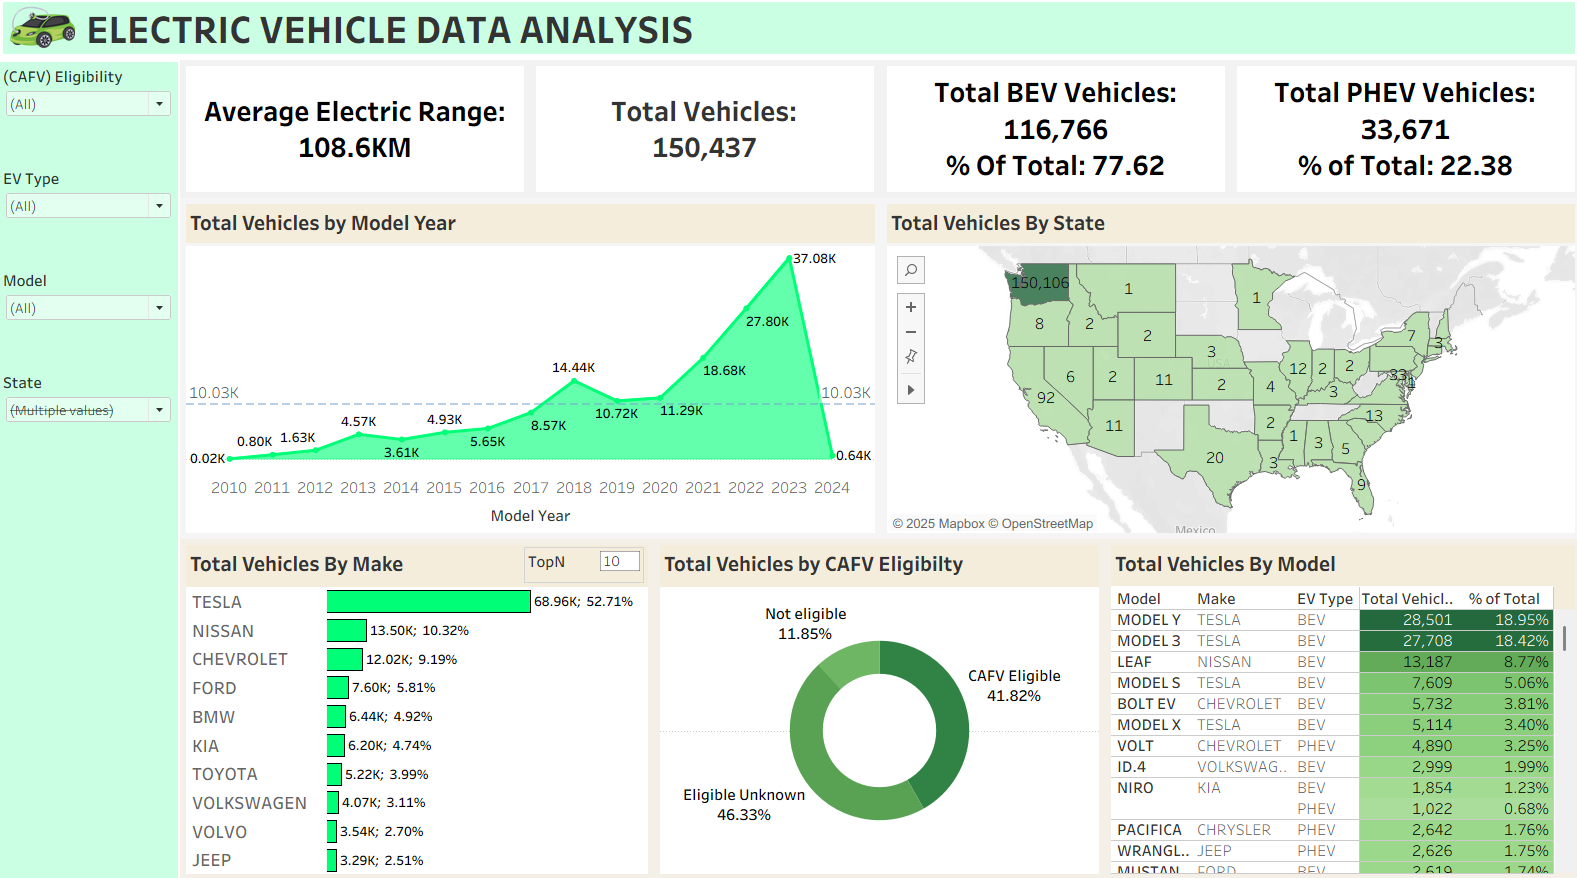

Layout of this report page (visuals, bound fields, positions):
{"tool":"tableau","page":{"name":"Dashboard 1","canvas":[1600,900],"ordinal":0},"visuals":[{"type":"title","box":[8,8,1584,64]},{"type":"image","param":"E:/Reading/Tableau/electric-car-vehicle-charging-plug-free-png.png","box":[16,15,76,48]},{"type":"worksheet","title":"Average Electric Range","mark":"Automatic","box":[191,72,350.3,137.6]},{"type":"worksheet","title":"Total Vehicles","mark":"Automatic","box":[541.3,72,350.2,137.6]},{"type":"worksheet","title":"Total BEV Vehicles","mark":"Automatic","box":[891.5,72,350.3,137.6]},{"type":"worksheet","title":"Total PHEV Vehicles","mark":"Automatic","box":[1241.8,72,350.2,137.6]},{"type":"filter","title":"Total Vehicles by Model Year","param":"[federated.189b9451bevg3716azfju1jef987].[none:Clean Alternative Fuel Vehicle (C","box":[10,74,179,102]},{"type":"filter","title":"Total Vehicles by Model Year","param":"[federated.189b9451bevg3716azfju1jef987].[none:Electric Vehicle Type:nk]","box":[10,176,179,102]},{"type":"worksheet","title":"Total Vehicles by Model Year","mark":"Area","rows":["Calculation_776870968429436928","Calculation_776870968429436928"],"cols":["Model Year"],"box":[191,209.6,701,341.2]},{"type":"worksheet","title":"Total Vehicles By State","mark":"Automatic","box":[892,209.6,700,341.2]},{"type":"filter","title":"Total Vehicles by Model Year","param":"[federated.189b9451bevg3716azfju1jef987].[none:Model:nk]","box":[10,278,179,102]},{"type":"filter","title":"Total Vehicles by Model Year","param":"[federated.189b9451bevg3716azfju1jef987].[none:State:nk]","box":[10,380,179,102]},{"type":"blank","box":[10,482,179,102]},{"type":"worksheet","title":"Total Vehicles By Make","mark":"Automatic","rows":["Make"],"cols":["Calculation_776870968429436928"],"box":[191,550.8,474,341.2]},{"type":"worksheet","title":"Total Vehicles by CAFV Eligibilty","mark":"Pie","rows":["Calculation_1316458498842386433","Calculation_1316458498842386433"],"box":[665,550.8,451,341.2]},{"type":"worksheet","title":"Total Vehicles By Model","mark":"Square","rows":["Model","Make","Electric Vehicle Type"],"box":[1116,550.8,476,341.2]},{"type":"parameter","param":"[Parameters].[Parameter 1]","box":[535,559,120,36]},{"type":"blank","box":[10,584,179,102]},{"type":"blank","box":[10,686,179,102]},{"type":"blank","box":[10,788,179,102]}]}

Visuals, with their boxes in screenshot pixels (x1, y1, x2, y2), scaled from the page's 1600x900 canvas onto the 1577x878 screenshot:
title: 8, 8, 1569, 70
image: 16, 15, 91, 61
"Average Electric Range" worksheet: 188, 70, 534, 204
"Total Vehicles" worksheet: 534, 70, 879, 204
"Total BEV Vehicles" worksheet: 879, 70, 1224, 204
"Total PHEV Vehicles" worksheet: 1224, 70, 1569, 204
"Total Vehicles by Model Year" filter: 10, 72, 186, 172
"Total Vehicles by Model Year" filter: 10, 172, 186, 271
"Total Vehicles by Model Year" worksheet (Area marks): 188, 204, 879, 537
"Total Vehicles By State" worksheet: 879, 204, 1569, 537
"Total Vehicles by Model Year" filter: 10, 271, 186, 371
"Total Vehicles by Model Year" filter: 10, 371, 186, 470
blank: 10, 470, 186, 570
"Total Vehicles By Make" worksheet: 188, 537, 655, 870
"Total Vehicles by CAFV Eligibilty" worksheet (Pie marks): 655, 537, 1100, 870
"Total Vehicles By Model" worksheet (Square marks): 1100, 537, 1569, 870
parameter: 527, 545, 646, 580
blank: 10, 570, 186, 669
blank: 10, 669, 186, 769
blank: 10, 769, 186, 868
